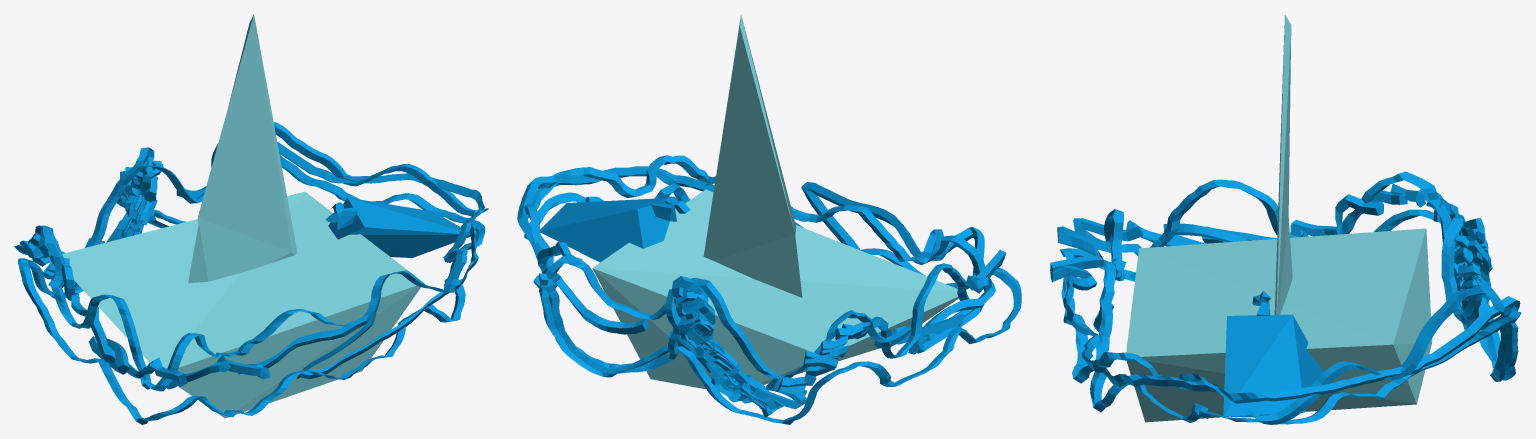
The picture shows the model from 3 angles, left to right: view 1: azimuth 30°, elevation 25°; view 2: azimuth 150°, elevation 25°; view 3: azimuth 270°, elevation 25°; orthographic projection. The views are drawn at different scales.
Visible parts, largest first — view 1: mesh_122786099, mesh_1611887166, group_1101924926, group_1106839659, group_2034489806, mesh_842946082; view 2: mesh_122786099, group_1101924926, mesh_1611887166, group_1106839659, group_2034489806, mesh_842946082; view 3: mesh_122786099, group_1101924926, group_1106839659, mesh_842946082, group_2034489806, mesh_1611887166.
Part boxes in pixels (bbox=[...]): mesh_122786099: bbox=[62, 191, 423, 418]; mesh_1611887166: bbox=[188, 14, 297, 283]; group_1101924926: bbox=[14, 141, 484, 389]; group_1106839659: bbox=[35, 122, 488, 391]; group_2034489806: bbox=[18, 154, 485, 424]; mesh_842946082: bbox=[328, 197, 470, 257]; mesh_122786099: bbox=[592, 189, 958, 391]; group_1101924926: bbox=[517, 166, 1006, 417]; mesh_1611887166: bbox=[703, 14, 802, 297]; group_1106839659: bbox=[524, 155, 995, 378]; group_2034489806: bbox=[524, 183, 1021, 424]; mesh_842946082: bbox=[540, 197, 677, 262]; mesh_122786099: bbox=[1126, 228, 1432, 422]; group_1101924926: bbox=[1050, 184, 1520, 403]; group_1106839659: bbox=[1092, 171, 1504, 424]; mesh_842946082: bbox=[1223, 314, 1322, 417]; group_2034489806: bbox=[1060, 209, 1521, 424]; mesh_1611887166: bbox=[1274, 14, 1292, 314].
Size of the model in its own units: 82.72 by 66.52 by 71.42.
